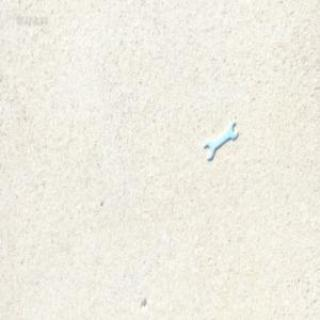Wrenchtrack_idkeyframe: (204, 121, 236, 159)
